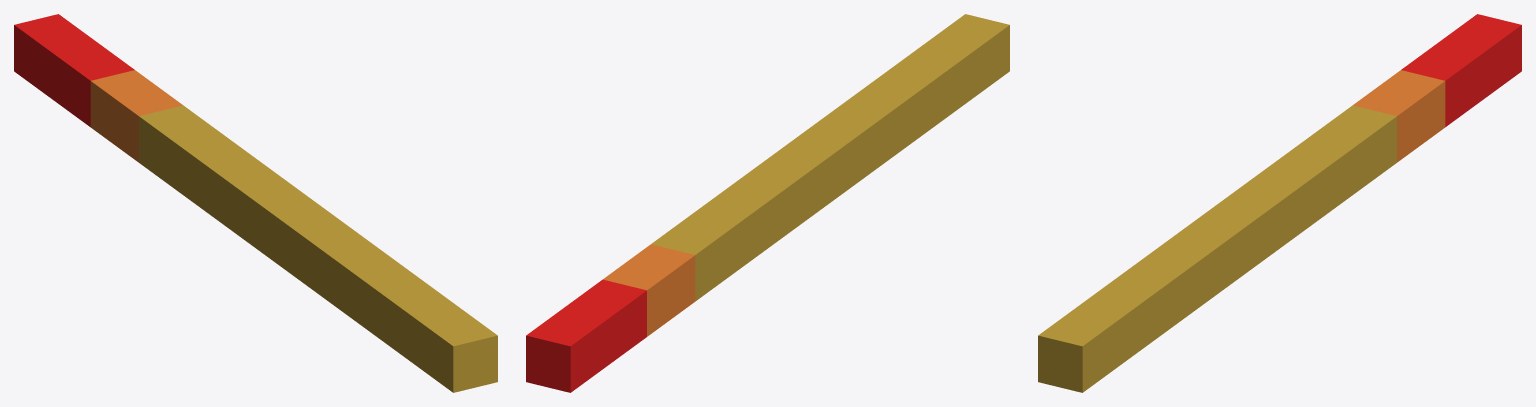
The model's file is heated_gold.glb.
3 views of the same model, side by side, from view 1: azimuth 30°, elevation 25°; view 2: azimuth 150°, elevation 25°; view 3: azimuth 330°, elevation 25° (orthographic).
Parts seen in each view (by area): view 1: Cube; view 2: Cube; view 3: Cube.
Part boxes in pixels (box(x1,y1,x2,y2)): Cube: box(14, 14, 497, 392); Cube: box(526, 14, 1009, 392); Cube: box(1038, 14, 1521, 392).
Bounding box in the file's own units: 0.246 × 0.246 × 4.21.
